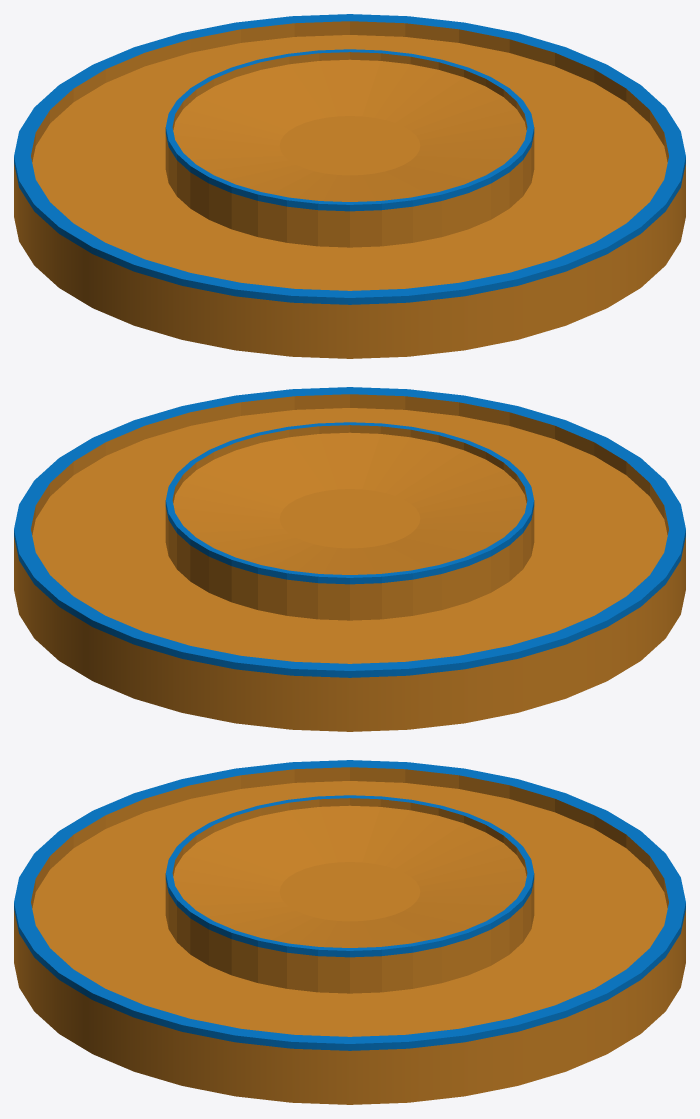
The model's file is Socle_V2.FBX.
3 renders of one model, top to bottom at view 1: azimuth 30°, elevation 25°; view 2: azimuth 150°, elevation 25°; view 3: azimuth 270°, elevation 25°, orthographic.
Visible parts, largest first — view 1: Socle; view 2: Socle; view 3: Socle.
Boxes of the visible parts, <box> form: Socle: <box>14,14,685,358</box>; Socle: <box>14,387,685,731</box>; Socle: <box>14,760,685,1104</box>.
Bounding box in the file's own units: 10 × 1.47 × 10.
